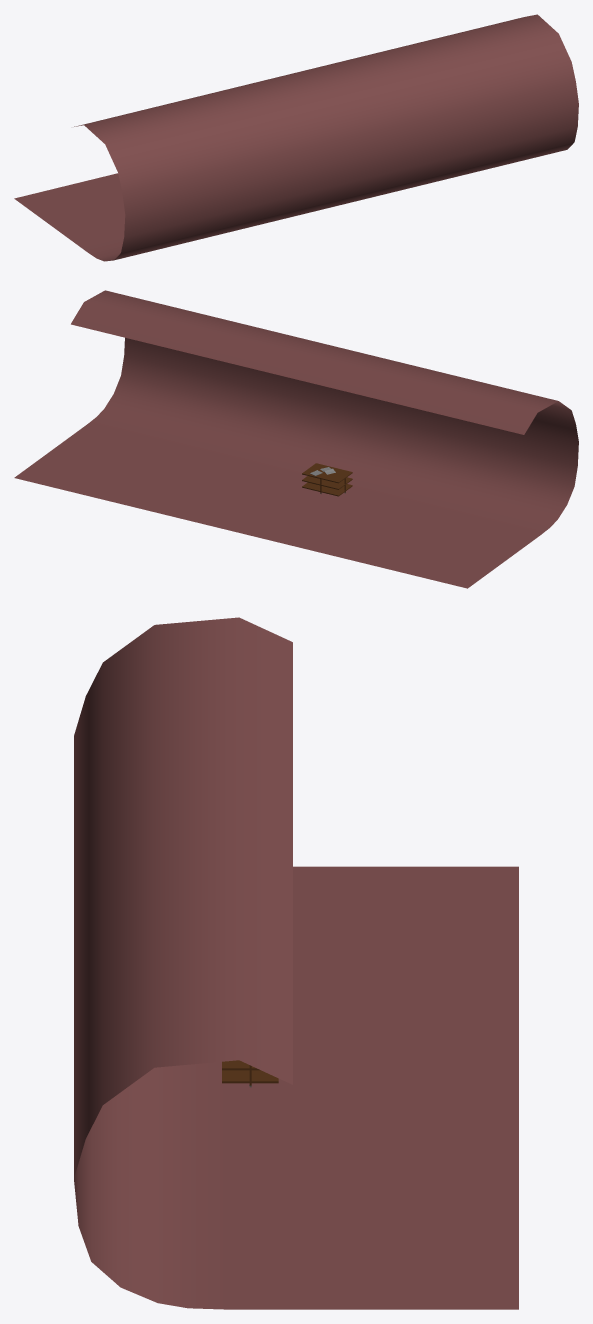
The model's file is jour.FBX.
3 renders of one model, top to bottom at view 1: azimuth 30°, elevation 25°; view 2: azimuth 150°, elevation 25°; view 3: azimuth 270°, elevation 25°, orthographic. The views are drawn at different scales.
Parts seen in each view (by area): view 1: sd; view 2: sd, stol; view 3: sd, stol.
Boxes of the visible parts, x1,y1,x2,y2 form: sd: (14,14,578,261); sd: (14,290,578,588); stol: (302,463,352,496); sd: (74,617,518,1309); stol: (222,1060,278,1087).
Bounding box in the file's own units: 1481 × 629 × 389.
